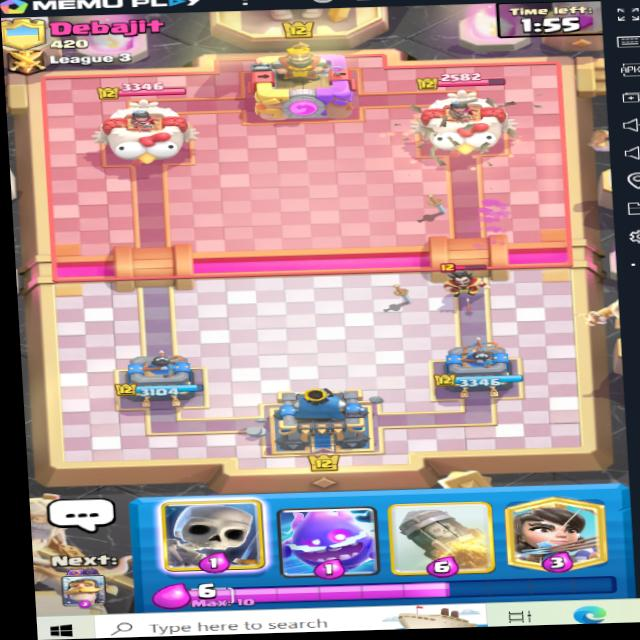electro-wizard: (432, 258, 486, 306)
